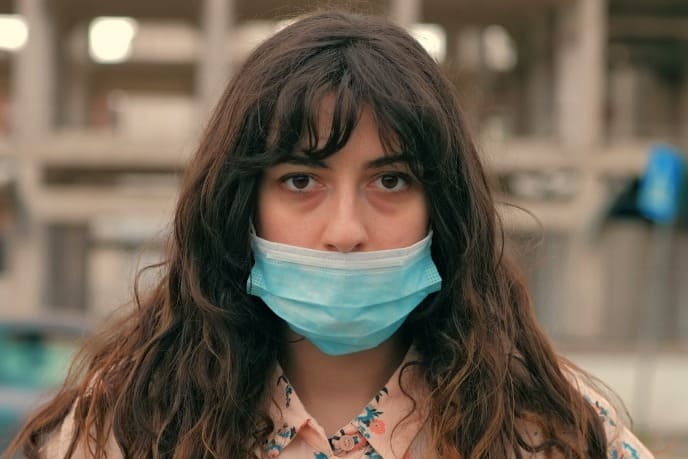with_incorrect_mask: (252, 88, 440, 352)
